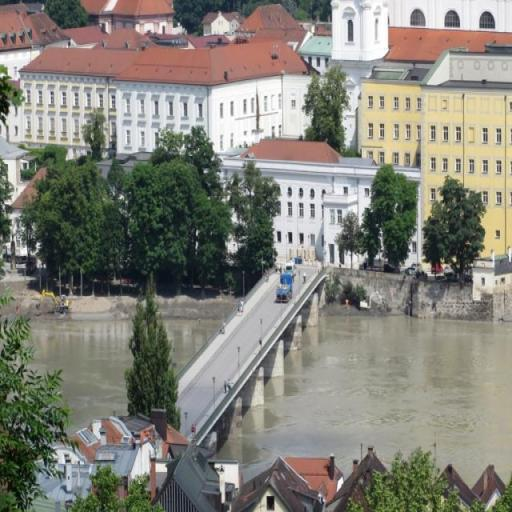flood: (218, 306, 512, 483), (31, 320, 131, 431), (165, 320, 218, 371)
house: (24, 46, 276, 144), (357, 79, 512, 184), (252, 140, 332, 265), (0, 0, 60, 62), (242, 0, 304, 42)
